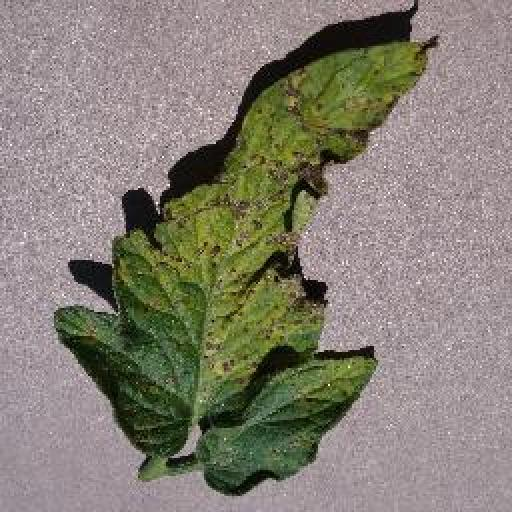disease_tomato: (52, 35, 431, 492)
